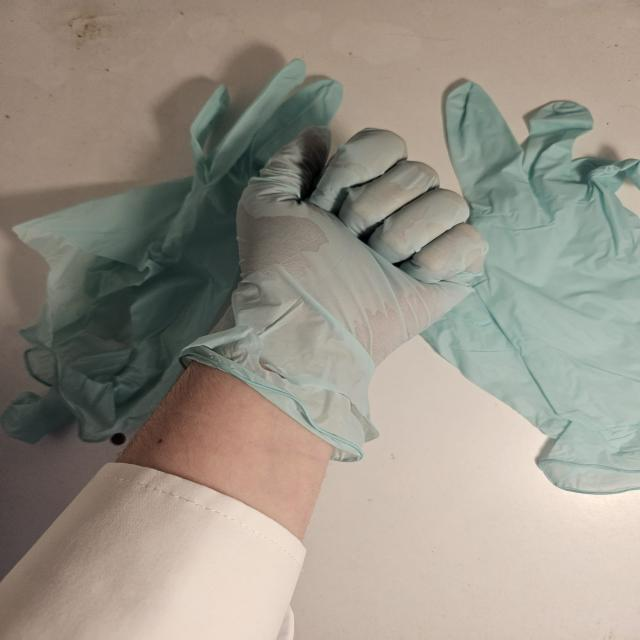gloves_damaged: (176, 117, 494, 462)
